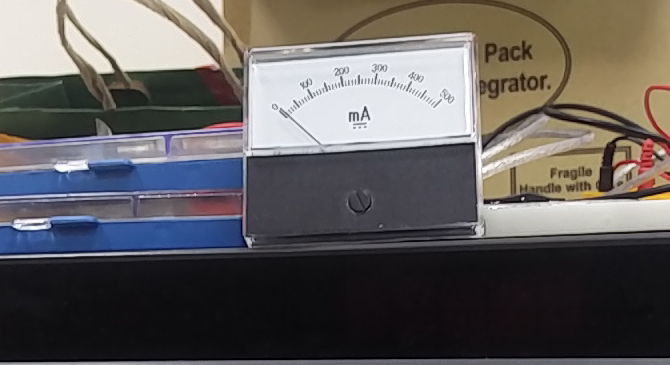MilliAmp_Meter: (245, 35, 472, 154)
